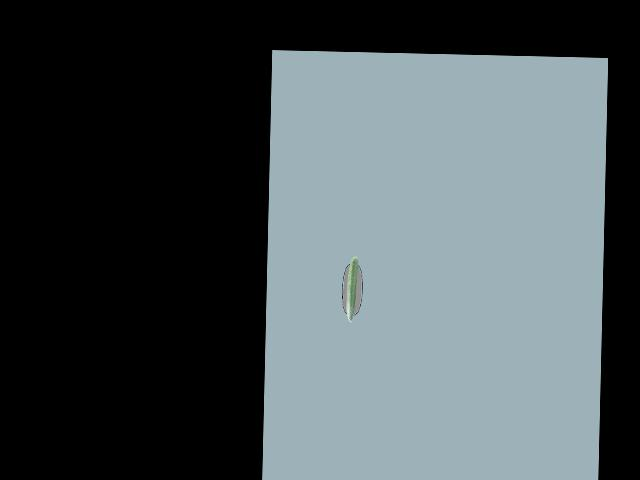cucumber: (346, 256, 358, 323)
